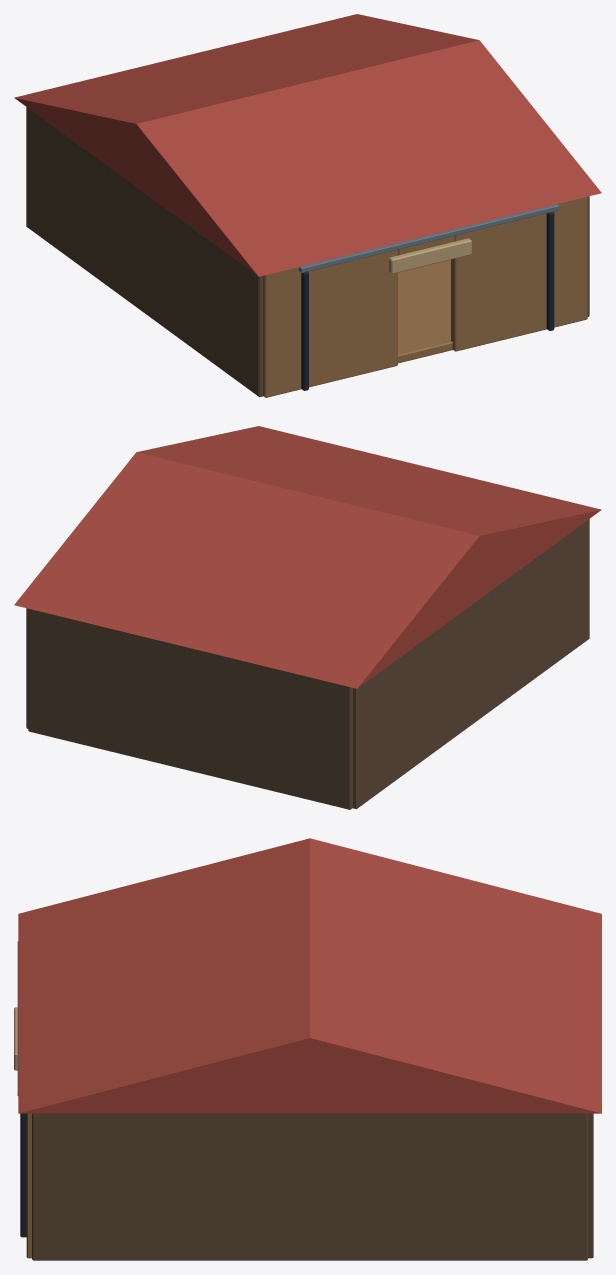
Rendered from harbor-warehouse.lod0.glb.
The picture shows the model from 3 angles, top to bottom: view 1: azimuth 30°, elevation 25°; view 2: azimuth 150°, elevation 25°; view 3: azimuth 270°, elevation 25°; orthographic projection. The views are drawn at different scales.
Visible parts, largest first — view 1: harbor-warehouse__roof, harbor-warehouse__body, harbor-warehouse__front-wall; view 2: harbor-warehouse__roof, harbor-warehouse__body; view 3: harbor-warehouse__roof, harbor-warehouse__body, harbor-warehouse__front-wall.
Boxes of the visible parts, x1,y1,x2,y2 form: harbor-warehouse__roof: (14,14,601,276); harbor-warehouse__body: (26,107,589,397); harbor-warehouse__front-wall: (263,196,587,397); harbor-warehouse__roof: (14,426,601,688); harbor-warehouse__body: (26,519,589,809); harbor-warehouse__roof: (18,838,601,1113); harbor-warehouse__body: (14,941,593,1260); harbor-warehouse__front-wall: (26,1113,31,1258).
Bounding box in the file's own units: 8.5 × 4.5 × 10.57.
